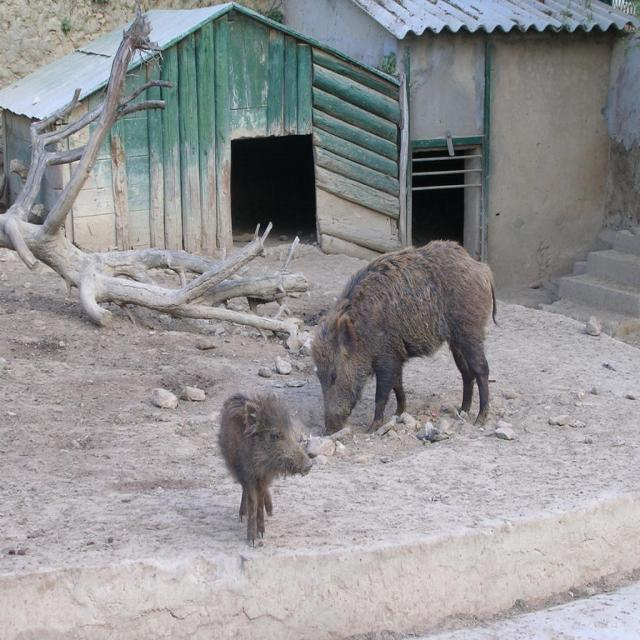Pig: (306, 236, 499, 449), (215, 392, 312, 550)
